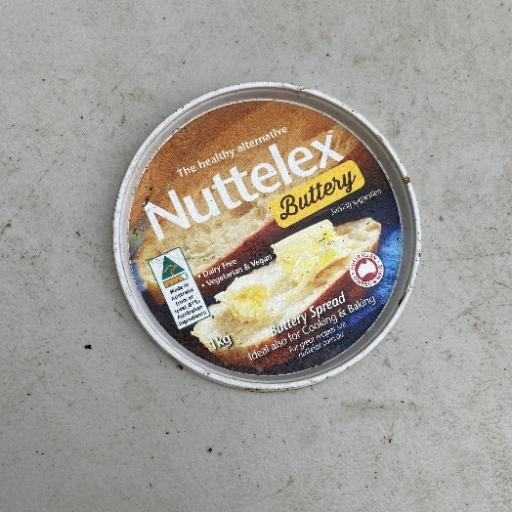Plastic: (112, 81, 420, 391)
